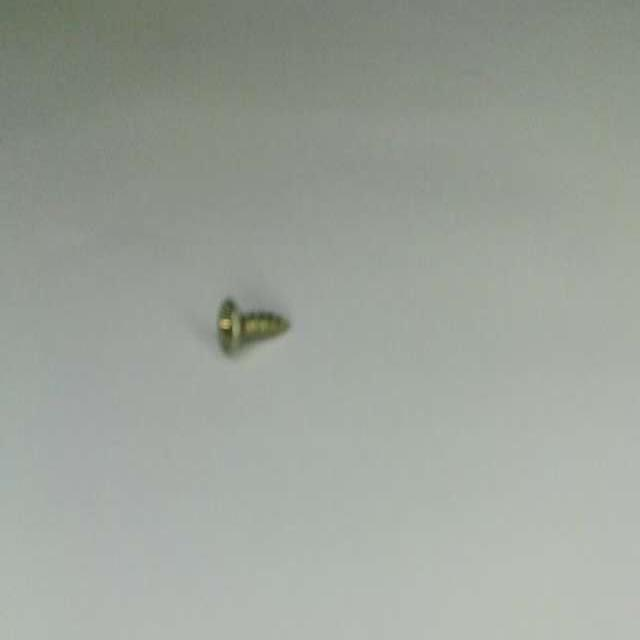Parafuso: (218, 299, 288, 353)
